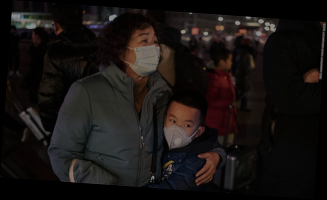with_mask: (126, 29, 161, 77), (164, 111, 197, 150)
without_mask: (223, 55, 234, 72)
